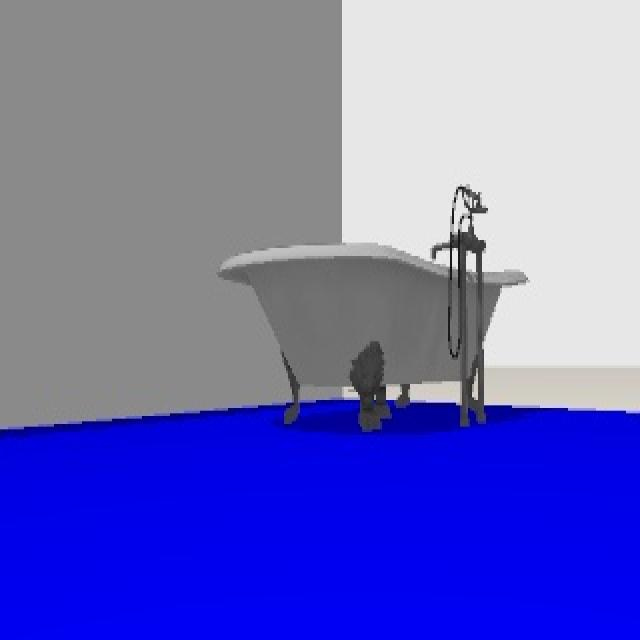bathtub: (220, 168, 526, 440)
